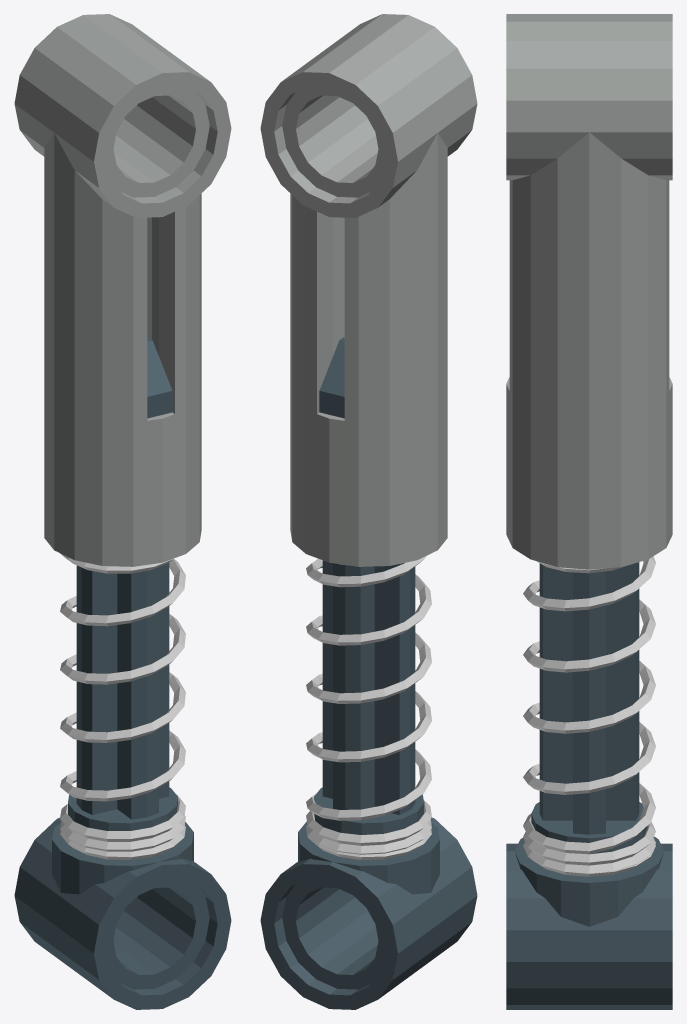
The picture shows the model from 3 angles, left to right: view 1: azimuth 30°, elevation 25°; view 2: azimuth 150°, elevation 25°; view 3: azimuth 270°, elevation 25°; orthographic projection. The views are drawn at different scales.
Parts seen in each view (by area): view 1: world; view 2: world; view 3: world.
Part boxes in pixels (box(x1,y1,x2,y2)): world: box(14, 14, 231, 1009); world: box(260, 14, 477, 1009); world: box(506, 14, 672, 1009).
Bounding box in the file's own units: 0.008 × 0.052 × 0.008.
